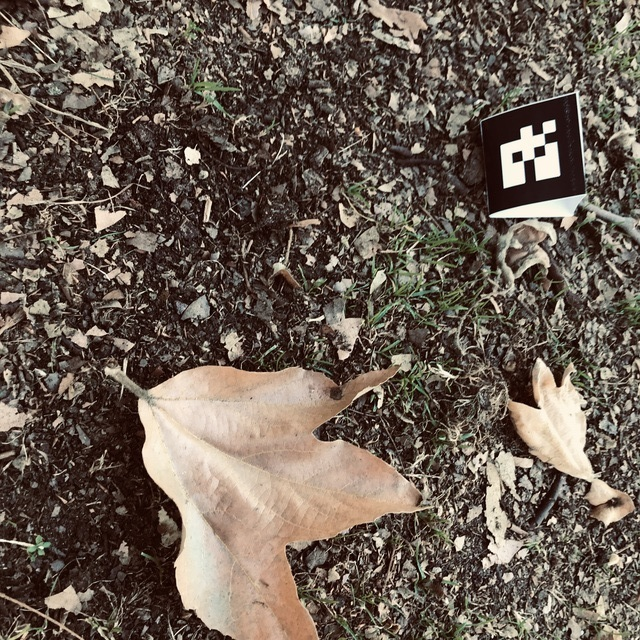ARTag: (480, 92, 587, 219)
